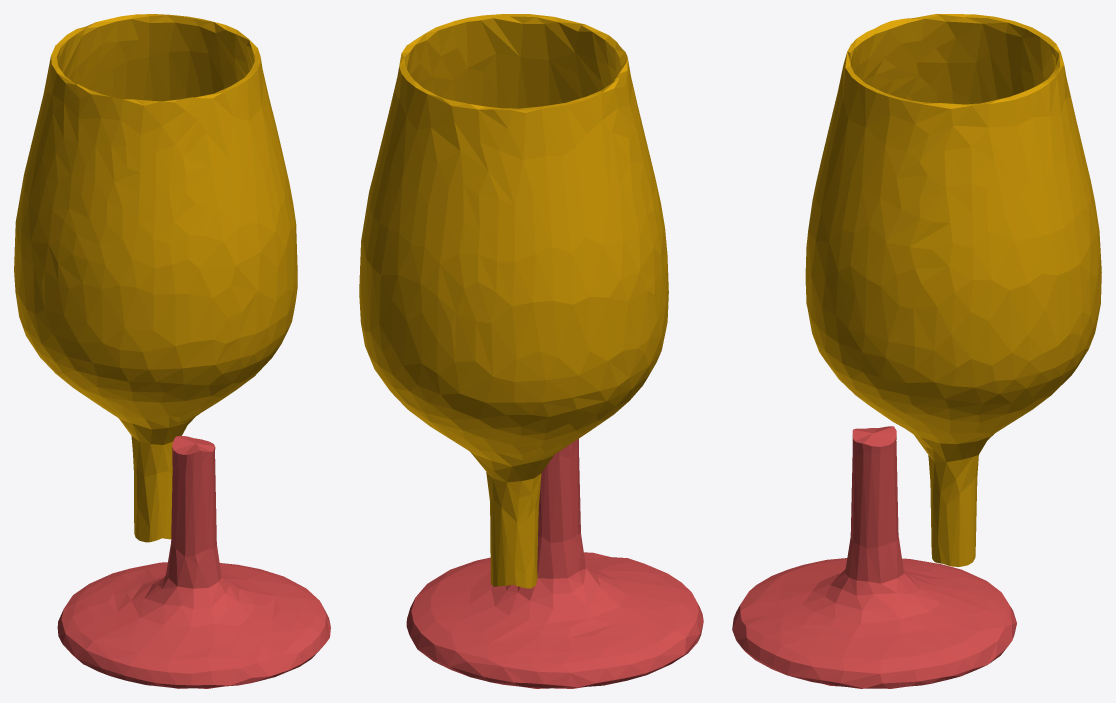
The model's file is fractured_64_2pcs_transformed.glb.
The picture shows the model from 3 angles, left to right: view 1: azimuth 30°, elevation 25°; view 2: azimuth 150°, elevation 25°; view 3: azimuth 270°, elevation 25°; orthographic projection. The views are drawn at different scales.
Visible parts, largest first — view 1: piece_0.obj, piece_1.obj; view 2: piece_0.obj, piece_1.obj; view 3: piece_0.obj, piece_1.obj.
Boxes of the visible parts, x1,y1,x2,y2 form: piece_0.obj: (14,14,297,542); piece_1.obj: (57,435,330,688); piece_0.obj: (359,14,668,588); piece_1.obj: (406,439,703,688); piece_0.obj: (805,14,1101,566); piece_1.obj: (732,426,1016,688).
Size of the model in its own units: 0.3821 by 0.8289 by 0.4769.
